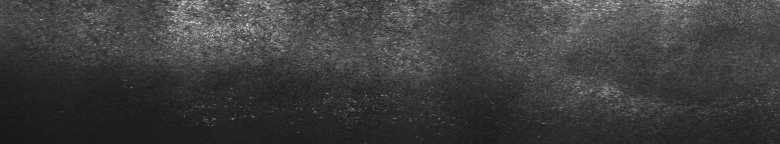kb: (153, 4, 436, 128)
